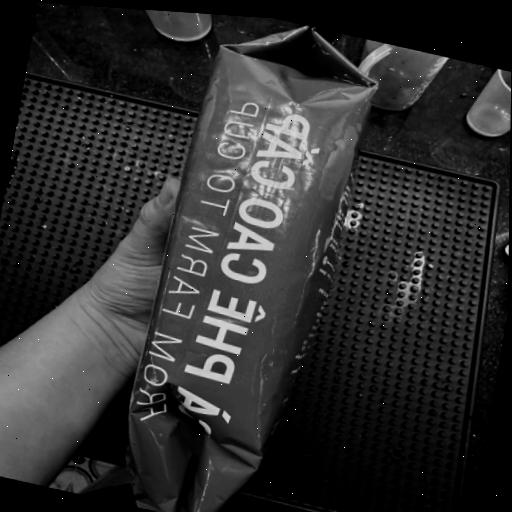cafe_xay: (127, 26, 375, 512)
